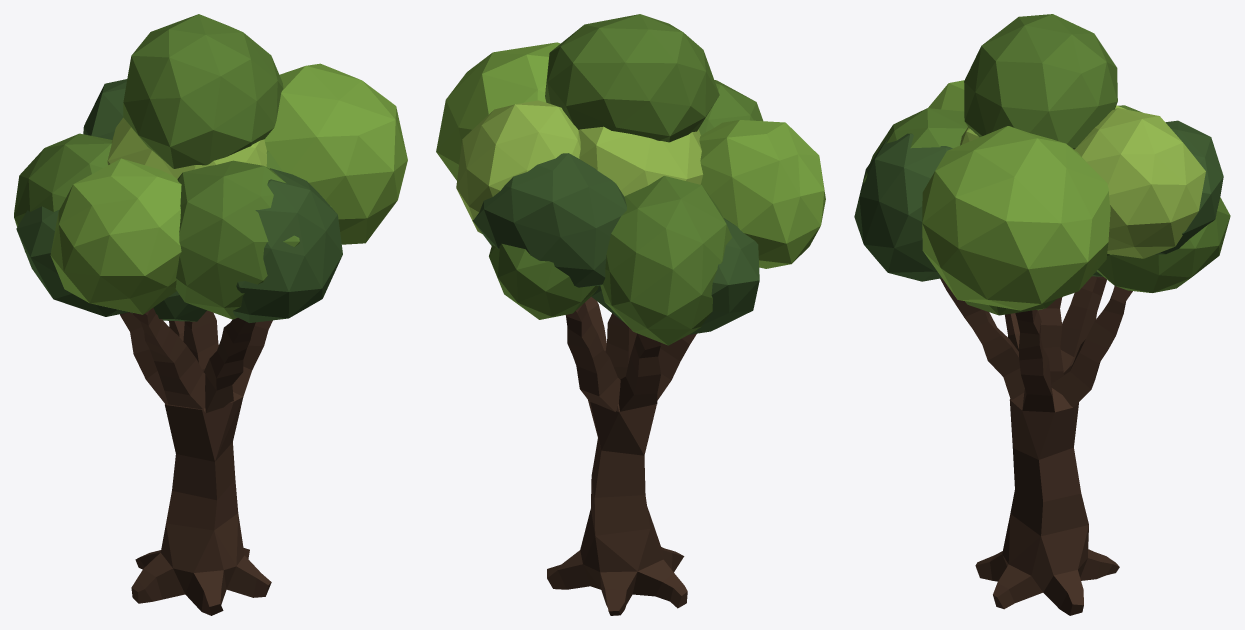
Rendered from SM_Tree_Oak_Green_03.fbx.
3 renders of one model, left to right at view 1: azimuth 30°, elevation 25°; view 2: azimuth 150°, elevation 25°; view 3: azimuth 270°, elevation 25°, orthographic.
Visible parts, largest first — view 1: SM_Tree_Oak_Green_03; view 2: SM_Tree_Oak_Green_03; view 3: SM_Tree_Oak_Green_03.
Part boxes in pixels (x1,y1,x2,y2): SM_Tree_Oak_Green_03: [14, 14, 407, 615]; SM_Tree_Oak_Green_03: [436, 14, 825, 615]; SM_Tree_Oak_Green_03: [854, 14, 1230, 615].
Bounding box in the file's own units: 329 × 504 × 307.
